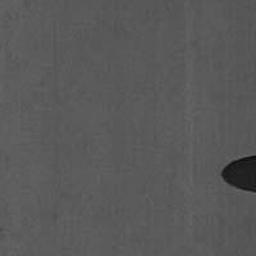Punching: (220, 154, 256, 193)
